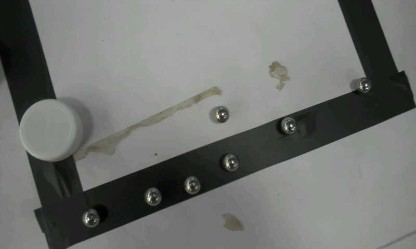ironball: (81, 208, 99, 228), (183, 175, 200, 195), (144, 187, 161, 206), (222, 153, 238, 172), (280, 116, 296, 134), (212, 105, 228, 122), (355, 76, 371, 93)
